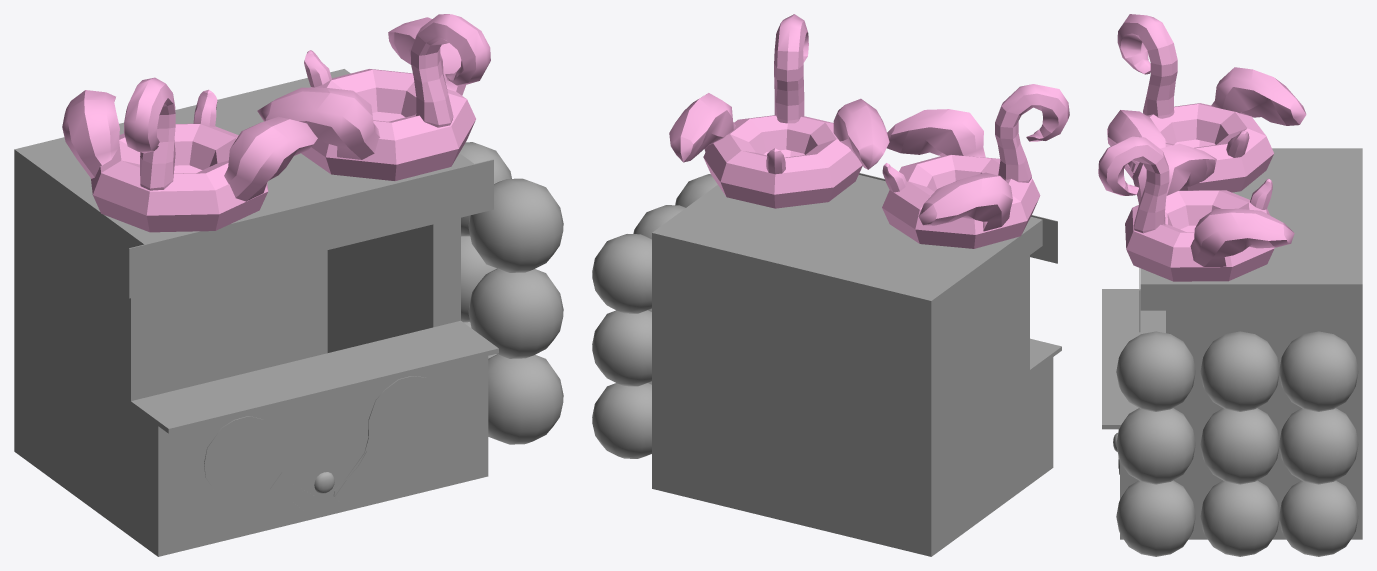
File: toy stand.fbx
3 views of the same model, side by side, from view 1: azimuth 30°, elevation 25°; view 2: azimuth 150°, elevation 25°; view 3: azimuth 270°, elevation 25° (orthographic). The views are drawn at different scales.
Parts seen in each view (by area): view 1: toy_stand2; view 2: toy_stand2; view 3: toy_stand2.
Part boxes in pixels (<box>): toy_stand2: <box>14,14,563,556</box>; toy_stand2: <box>592,14,1069,556</box>; toy_stand2: <box>1098,14,1362,556</box>.
Bounding box in the file's own units: 410 × 408 × 250.
